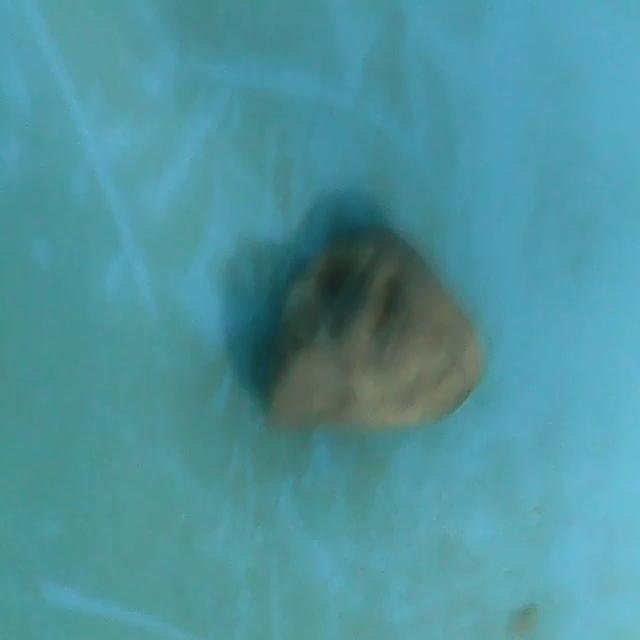rock: (255, 214, 496, 446)
